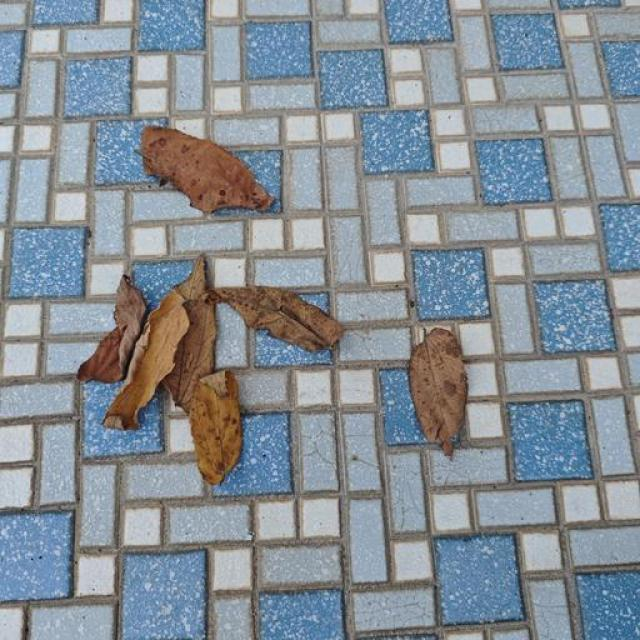organic: (104, 289, 188, 429), (142, 127, 272, 212), (209, 287, 343, 351), (163, 257, 216, 411), (409, 328, 467, 456), (77, 275, 146, 382), (189, 372, 242, 484)
